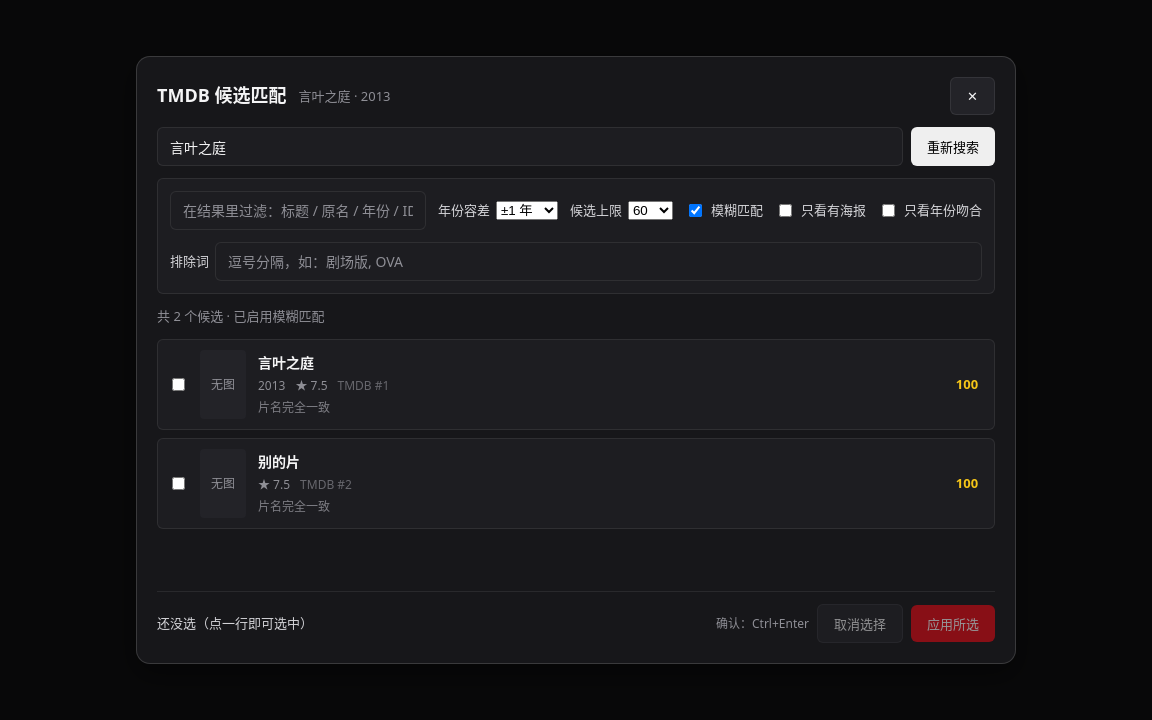
Test: TmdbMatchDialog › 点一行即选中，再点一次取消；底部清楚显示当前已选
Click the list item "无图 言叶之庭 2013 ★ 7.5 TMDB #1 片名完全一致 100" at (576, 384), box x1=157 y1=339 x2=995 y2=430
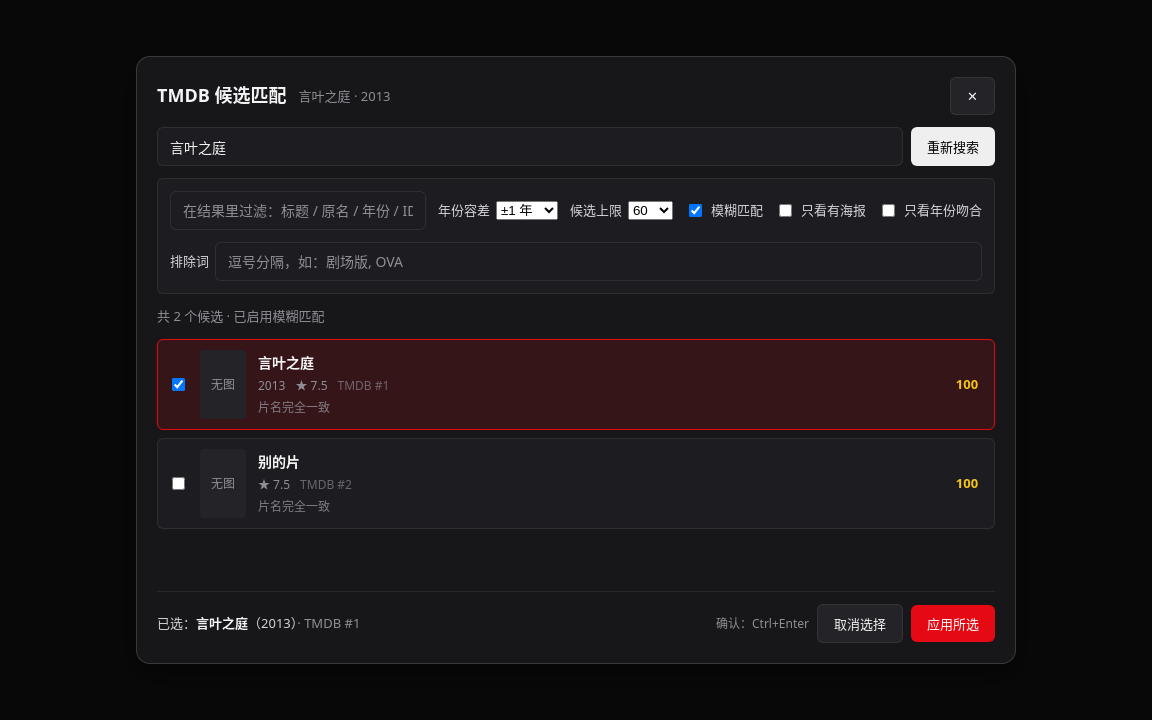
Expected: the text "TMDB #1" is shown, x1=338 y1=376 x2=389 y2=396
Now the text "已选：" is shown, box x1=157 y1=614 x2=196 y2=632
Click the list item "无图 言叶之庭 2013 ★ 7.5 TMDB #1 片名完全一致 100" at (576, 384), box x1=157 y1=339 x2=995 y2=430
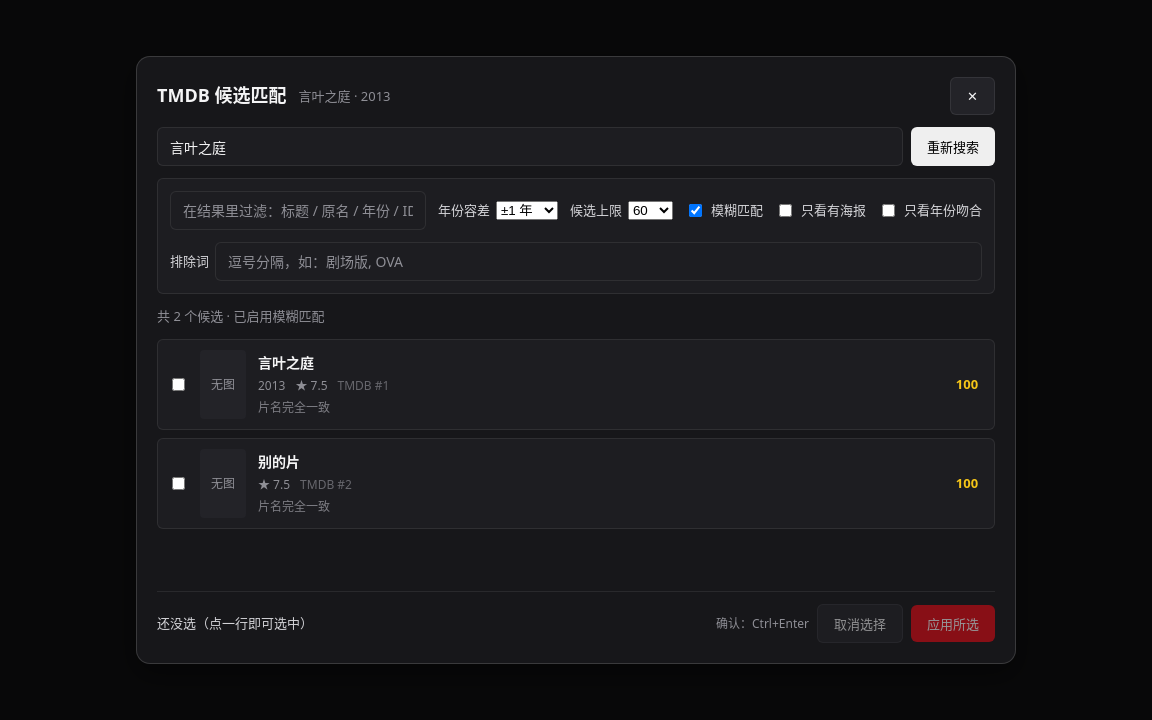
Now the text "还没选" is shown, box x1=157 y1=614 x2=313 y2=632
